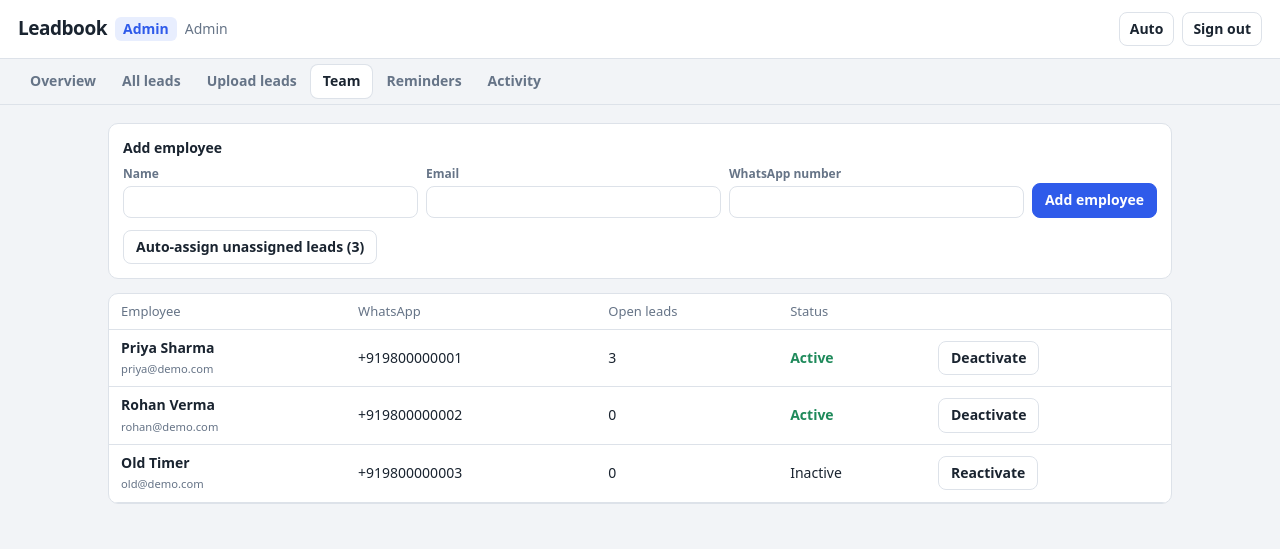
Test: Team (7.5) › reactivates an inactive employee
Step 1. Click the button with aria-label "Reactivate Old Timer" → (988, 473), box [938,456,1038,490]
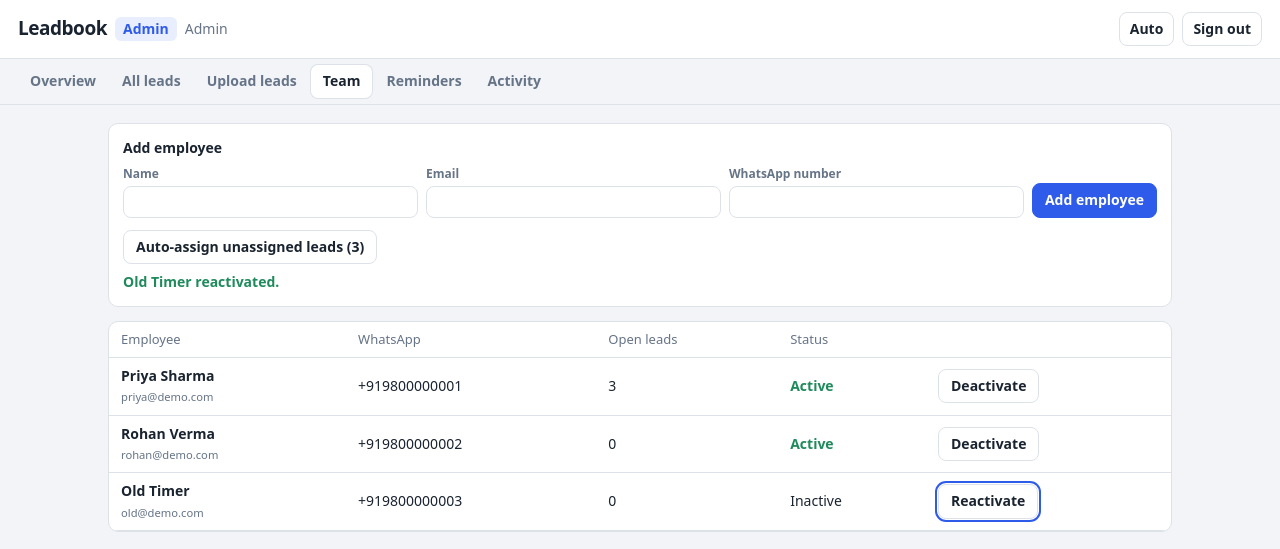
Result: the text "Old Timer reactivated." is shown at [123,272,279,291]
